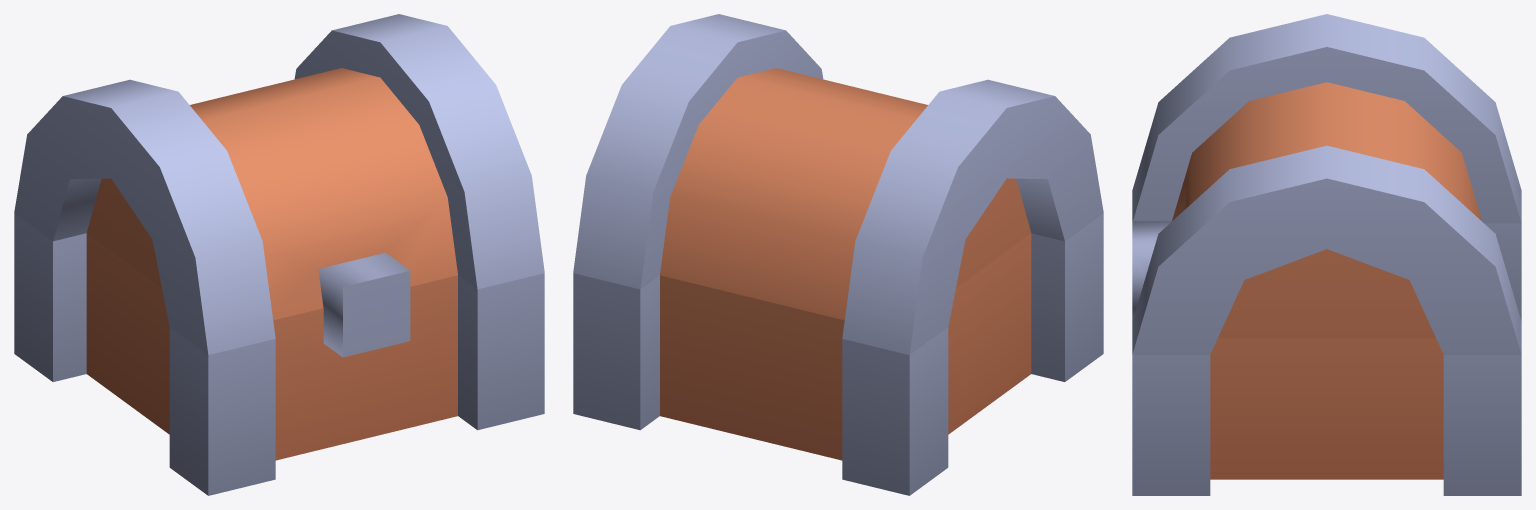
The model's file is chest.glb.
The picture shows the model from 3 angles, left to right: view 1: azimuth 30°, elevation 25°; view 2: azimuth 150°, elevation 25°; view 3: azimuth 270°, elevation 25°; orthographic projection.
Parts seen in each view (by area): view 1: lid, chest; view 2: lid, chest; view 3: lid, chest.
Boxes of the visible parts, box(x1,y1,x2,y2) form: lid: box(14, 14, 544, 357); chest: box(14, 213, 544, 495); lid: box(573, 14, 1103, 354); chest: box(573, 213, 1103, 495); lid: box(1132, 14, 1521, 354); chest: box(1132, 223, 1521, 495).
Bounding box in the file's own units: 0.5 × 0.45 × 0.5.
Materials: 1 (1 with a texture image).
